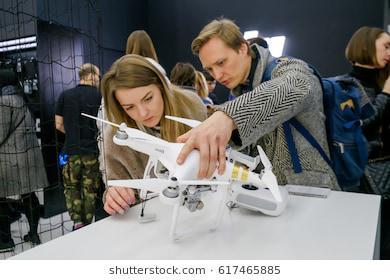drone: (80, 114, 287, 243)
